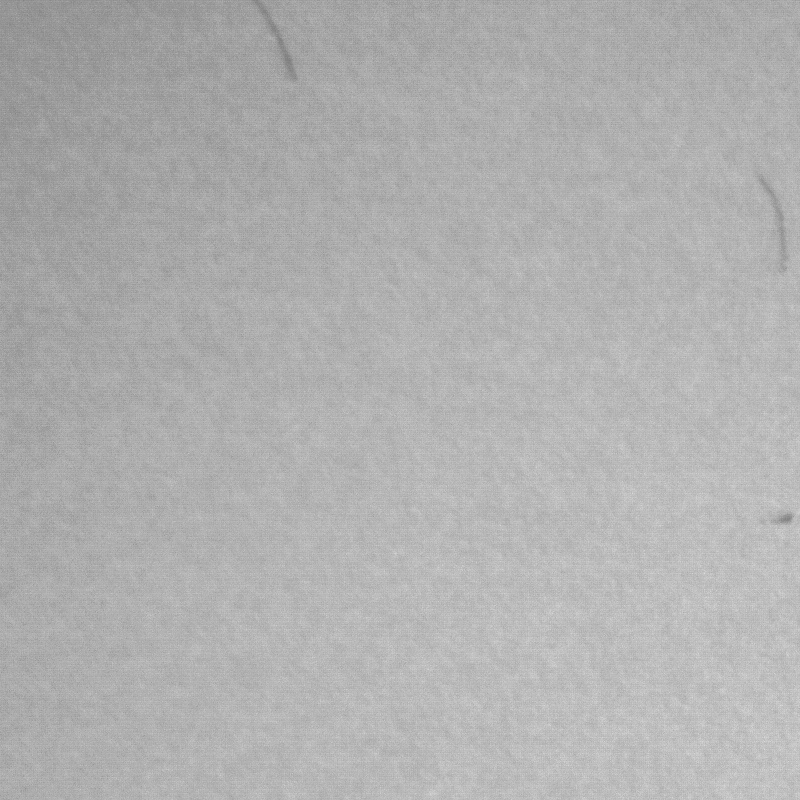defect: (248, 1, 296, 80), (762, 177, 792, 278), (765, 512, 798, 530)
